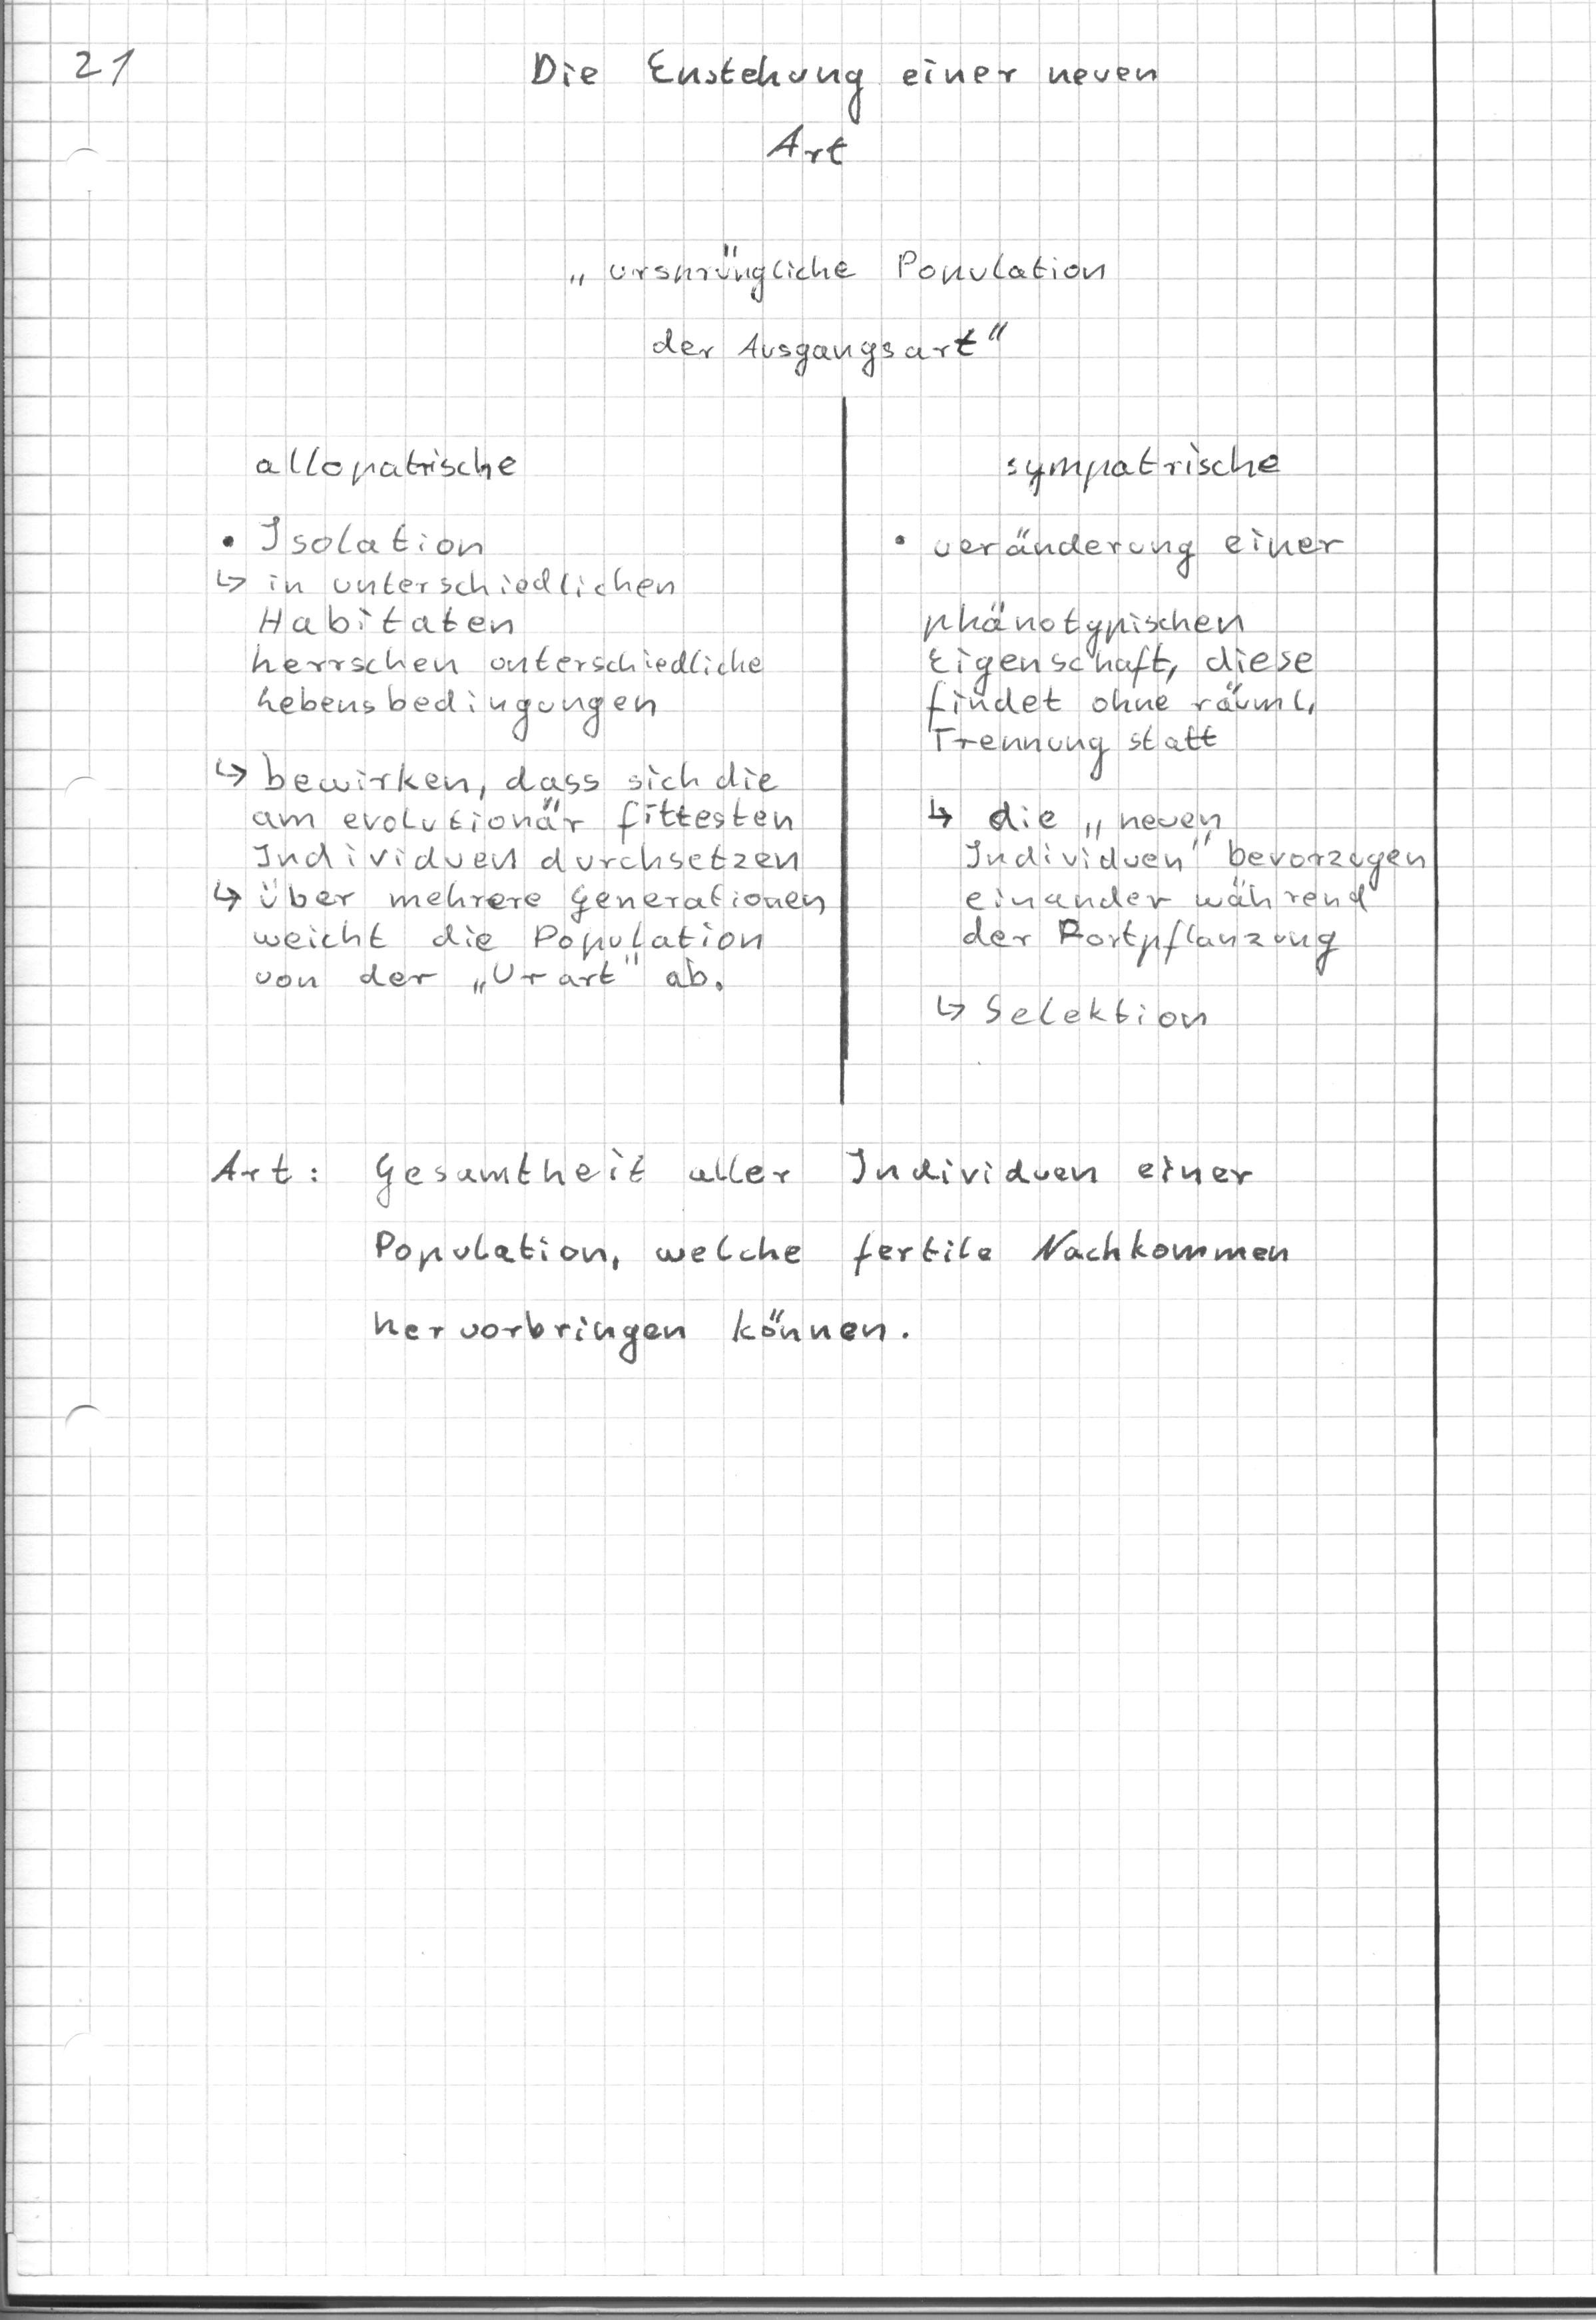word: (207, 511, 774, 748), (920, 788, 1428, 986), (208, 870, 834, 1008), (912, 591, 1327, 786), (213, 749, 807, 879), (883, 517, 1352, 583), (930, 977, 1218, 1031)
